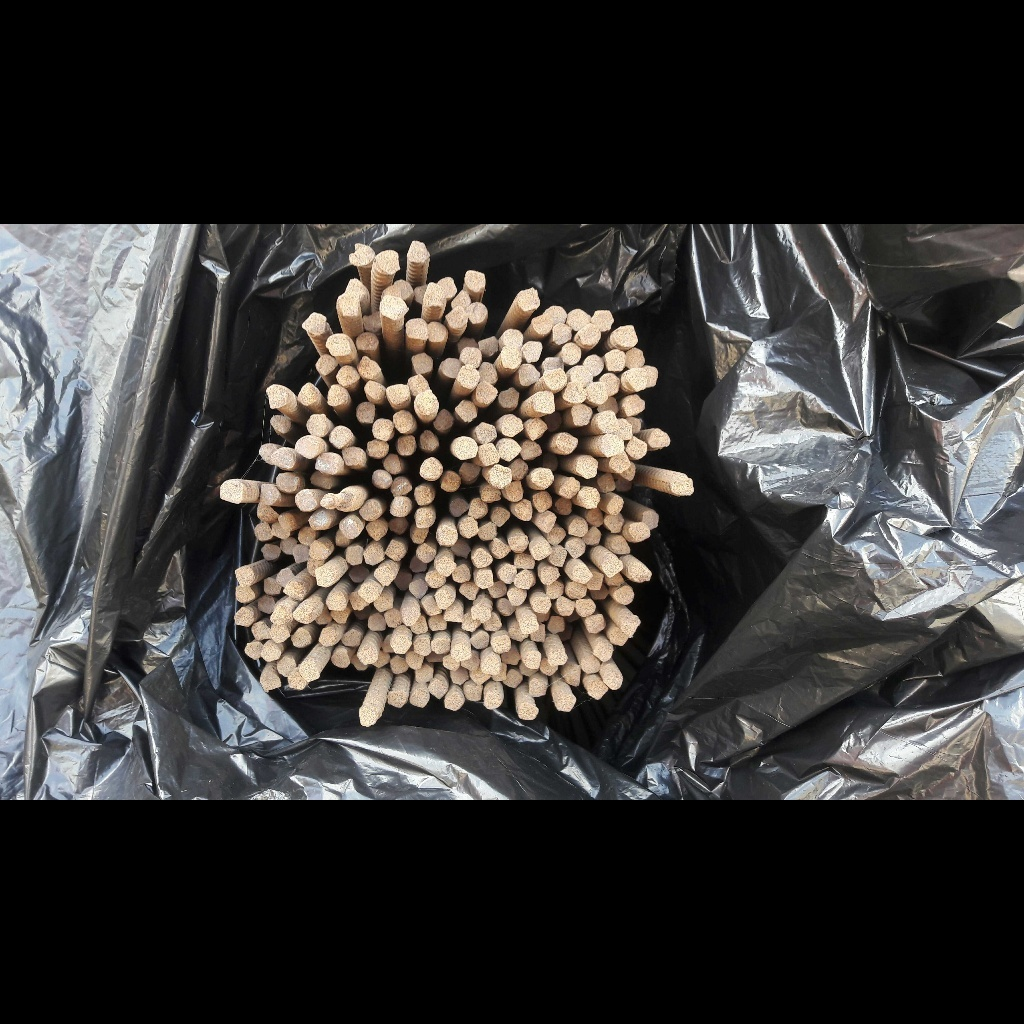dipstick: (378, 295, 407, 320), (294, 436, 323, 459), (374, 249, 400, 274), (217, 481, 243, 506), (417, 457, 443, 482), (497, 438, 523, 463), (336, 292, 360, 318), (415, 390, 439, 416), (331, 489, 358, 512), (457, 365, 480, 392), (386, 383, 411, 407), (499, 414, 524, 438), (264, 384, 287, 410), (349, 243, 373, 267), (344, 277, 368, 301), (405, 317, 429, 341), (304, 414, 328, 438), (532, 390, 556, 414), (327, 425, 352, 448), (488, 465, 513, 488), (670, 474, 695, 497), (408, 373, 432, 396), (391, 410, 415, 433), (454, 436, 478, 459), (496, 386, 520, 409), (499, 344, 522, 368), (625, 369, 649, 392), (569, 402, 593, 425), (326, 334, 351, 356), (457, 398, 478, 424), (293, 490, 319, 511), (272, 447, 295, 470), (339, 515, 362, 538), (576, 456, 599, 479), (326, 384, 348, 408), (257, 484, 281, 506), (373, 563, 395, 587), (475, 382, 497, 406), (516, 287, 540, 309), (525, 418, 547, 442), (569, 308, 593, 330), (604, 348, 626, 372), (600, 433, 624, 455), (465, 268, 486, 293), (410, 352, 435, 373), (275, 472, 300, 493), (509, 500, 534, 521), (306, 510, 332, 530), (357, 356, 379, 379), (314, 353, 336, 376), (363, 379, 385, 402), (439, 471, 461, 494), (312, 567, 334, 590), (268, 621, 290, 644), (317, 626, 339, 649), (544, 368, 566, 391), (591, 309, 614, 331), (302, 312, 326, 333), (297, 382, 318, 406), (254, 502, 278, 523), (415, 506, 436, 530), (463, 679, 484, 703), (478, 361, 499, 385), (647, 428, 671, 449), (309, 470, 334, 490), (621, 394, 646, 414), (626, 522, 651, 542), (410, 240, 429, 266), (371, 418, 393, 440), (362, 543, 384, 565), (386, 540, 408, 562), (587, 382, 609, 404), (596, 410, 618, 432), (629, 561, 651, 583), (355, 402, 378, 423), (258, 443, 279, 466), (502, 481, 525, 502), (474, 421, 497, 442), (460, 347, 483, 368), (519, 363, 540, 386), (601, 554, 624, 575), (601, 669, 624, 690), (418, 430, 442, 450), (608, 535, 632, 555), (336, 365, 358, 386), (316, 453, 337, 475), (359, 501, 381, 522), (292, 603, 314, 624), (419, 594, 441, 615), (481, 688, 503, 709), (552, 322, 573, 344), (341, 445, 361, 468), (523, 341, 543, 364), (618, 324, 638, 347), (601, 372, 621, 395), (622, 614, 642, 637), (426, 282, 445, 306), (287, 667, 306, 691), (531, 469, 555, 488), (568, 366, 593, 384), (446, 306, 467, 327), (380, 452, 401, 473), (448, 496, 469, 517), (366, 520, 387, 541), (284, 581, 305, 602), (232, 607, 253, 628), (366, 613, 387, 634), (434, 556, 455, 577), (468, 497, 489, 518), (443, 357, 464, 378), (477, 335, 498, 356), (561, 342, 582, 363), (626, 348, 647, 369), (583, 354, 604, 375), (559, 477, 580, 498), (555, 692, 576, 713), (269, 414, 291, 434), (366, 438, 388, 458), (490, 634, 512, 654), (478, 444, 500, 464), (546, 305, 568, 325), (234, 567, 257, 586), (564, 383, 587, 402), (607, 453, 630, 472), (588, 682, 611, 701), (434, 409, 454, 430), (259, 673, 280, 693), (387, 688, 408, 708), (436, 526, 457, 546), (424, 569, 445, 589), (428, 679, 448, 700), (626, 438, 647, 458), (372, 468, 391, 490), (277, 512, 296, 534), (390, 478, 412, 497), (297, 663, 319, 682), (332, 647, 351, 669), (448, 666, 470, 685), (501, 647, 523, 666), (457, 581, 479, 600), (459, 461, 481, 480), (579, 325, 601, 344), (582, 487, 601, 509), (574, 597, 596, 616), (584, 614, 606, 633), (355, 333, 378, 351), (308, 541, 331, 559), (349, 588, 367, 611), (508, 536, 531, 554), (596, 396, 619, 414), (478, 485, 502, 502), (362, 312, 382, 332), (358, 646, 378, 666), (444, 692, 464, 712), (533, 491, 553, 511), (614, 586, 634, 606), (468, 302, 487, 323), (270, 521, 291, 540), (389, 497, 410, 516), (234, 585, 255, 604), (325, 592, 346, 611), (435, 588, 454, 609), (443, 605, 464, 624), (472, 549, 493, 568), (491, 539, 512, 558), (508, 460, 529, 479), (597, 472, 616, 493), (569, 517, 588, 538), (429, 321, 447, 343), (398, 434, 416, 456), (387, 517, 409, 535), (361, 584, 379, 606), (408, 555, 430, 573), (402, 604, 420, 626), (451, 564, 473, 582), (542, 355, 564, 373), (556, 433, 578, 451), (605, 513, 623, 535), (414, 485, 433, 505), (256, 595, 275, 615), (251, 621, 270, 641), (291, 628, 311, 647), (276, 656, 295, 676), (342, 629, 361, 649), (358, 706, 377, 726), (409, 689, 429, 708), (416, 542, 435, 562), (412, 635, 431, 655), (459, 517, 479, 536), (532, 314, 552, 333), (530, 542, 550, 561), (565, 538, 584, 558), (594, 642, 614, 661), (296, 526, 317, 544), (391, 654, 409, 675), (481, 654, 499, 675), (615, 418, 633, 439), (540, 566, 561, 584), (396, 278, 413, 300), (440, 277, 457, 299), (270, 607, 292, 624), (502, 328, 524, 345), (351, 650, 367, 673), (518, 702, 537, 721), (529, 678, 548, 697), (497, 597, 516, 616), (508, 587, 527, 606), (586, 508, 605, 527), (556, 597, 575, 616), (253, 522, 273, 540), (409, 525, 429, 543), (384, 608, 402, 628), (427, 614, 447, 632), (472, 605, 492, 623), (521, 441, 541, 459), (644, 365, 659, 389), (555, 498, 575, 516), (549, 548, 567, 568), (608, 629, 628, 647), (451, 290, 472, 307), (509, 623, 526, 644), (457, 336, 478, 353), (346, 565, 368, 581), (565, 664, 581, 686), (345, 546, 363, 565), (291, 544, 310, 562), (261, 644, 280, 662), (244, 641, 262, 660), (406, 650, 425, 668), (414, 667, 433, 685), (392, 634, 410, 653), (452, 539, 471, 557), (431, 636, 450, 654), (470, 631, 489, 649), (478, 522, 497, 540), (541, 452, 560, 470), (641, 510, 659, 529), (581, 656, 600, 674), (261, 543, 278, 563), (474, 571, 494, 588), (547, 649, 567, 666), (263, 578, 284, 594), (410, 577, 426, 598), (567, 582, 588, 598), (622, 459, 637, 481), (442, 654, 460, 672), (461, 652, 479, 670), (547, 413, 565, 431), (606, 496, 624, 514), (315, 608, 332, 627), (496, 565, 516, 581), (614, 475, 634, 491), (531, 597, 552, 612), (276, 568, 293, 586), (394, 572, 411, 590), (411, 615, 428, 633), (483, 615, 501, 632), (524, 651, 541, 669), (493, 508, 510, 526), (584, 528, 602, 545), (572, 565, 590, 582), (279, 536, 295, 555), (471, 666, 490, 682), (451, 644, 470, 660), (505, 670, 521, 689), (517, 553, 536, 569), (540, 513, 556, 532), (588, 571, 604, 590), (351, 605, 371, 620), (423, 651, 444, 665), (463, 614, 480, 631), (489, 582, 507, 598), (547, 615, 563, 633), (538, 660, 557, 675), (307, 557, 321, 577), (375, 595, 392, 611), (515, 571, 531, 588), (549, 527, 565, 544), (329, 609, 347, 624), (520, 662, 538, 677), (545, 582, 563, 597), (563, 609, 581, 624), (493, 663, 507, 682), (606, 572, 626, 585), (523, 617, 539, 633), (334, 530, 349, 547), (591, 585, 608, 600), (383, 636, 397, 654), (627, 415, 641, 433), (413, 284, 426, 303), (384, 285, 401, 299), (375, 650, 389, 667), (534, 609, 551, 623), (561, 623, 572, 642)
